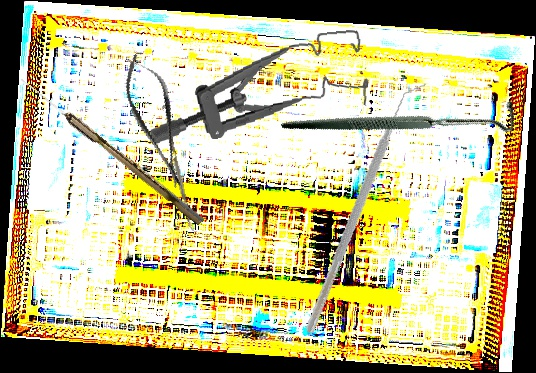Chopper: (267, 82, 467, 335), (167, 130, 198, 234)
Hook Surgical: (279, 12, 525, 222), (99, 135, 206, 224)
Micro Scissor: (115, 48, 196, 194)
Speculum: (140, 28, 376, 146)
Surgical Spoon: (16, 75, 206, 226)
